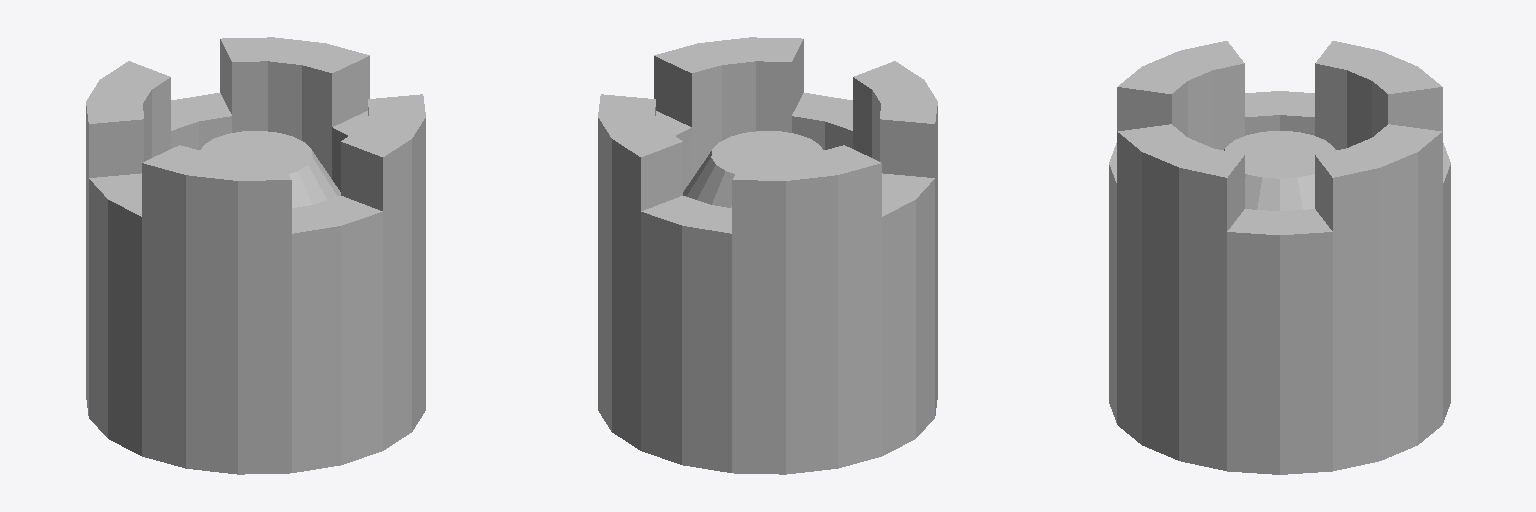
File: beacon.obj
3 renders of one model, left to right at view 1: azimuth 30°, elevation 25°; view 2: azimuth 150°, elevation 25°; view 3: azimuth 270°, elevation 25°, orthographic.
Visible parts, largest first — view 1: pCylinder2; view 2: pCylinder2; view 3: pCylinder2.
Boxes of the visible parts, x1,y1,x2,y2 form: pCylinder2: [86, 37, 425, 474]; pCylinder2: [598, 37, 937, 474]; pCylinder2: [1109, 41, 1450, 474].
Size of the model in its own units: 2 by 1.89 by 2.